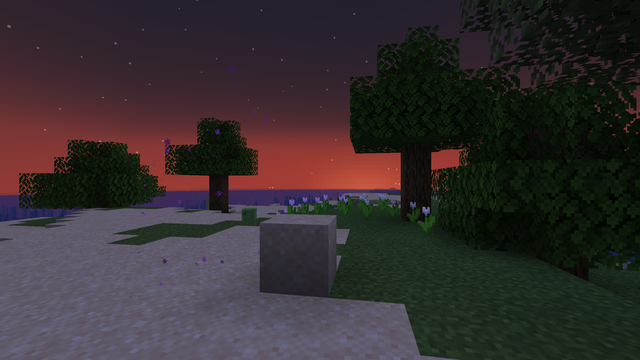slimes: (240, 207, 258, 222)
